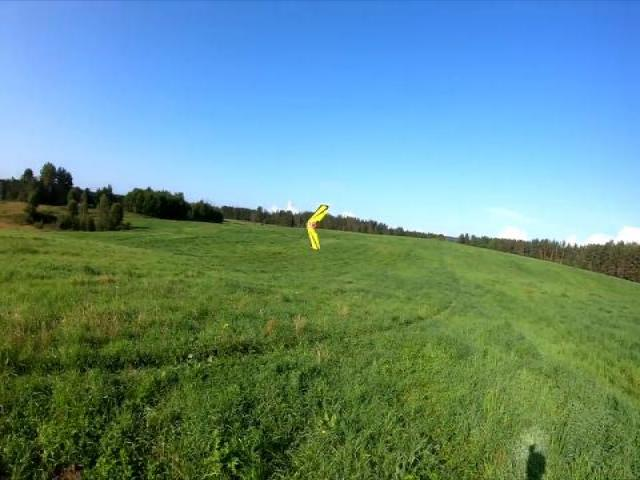flying wing: (304, 202, 328, 250)
